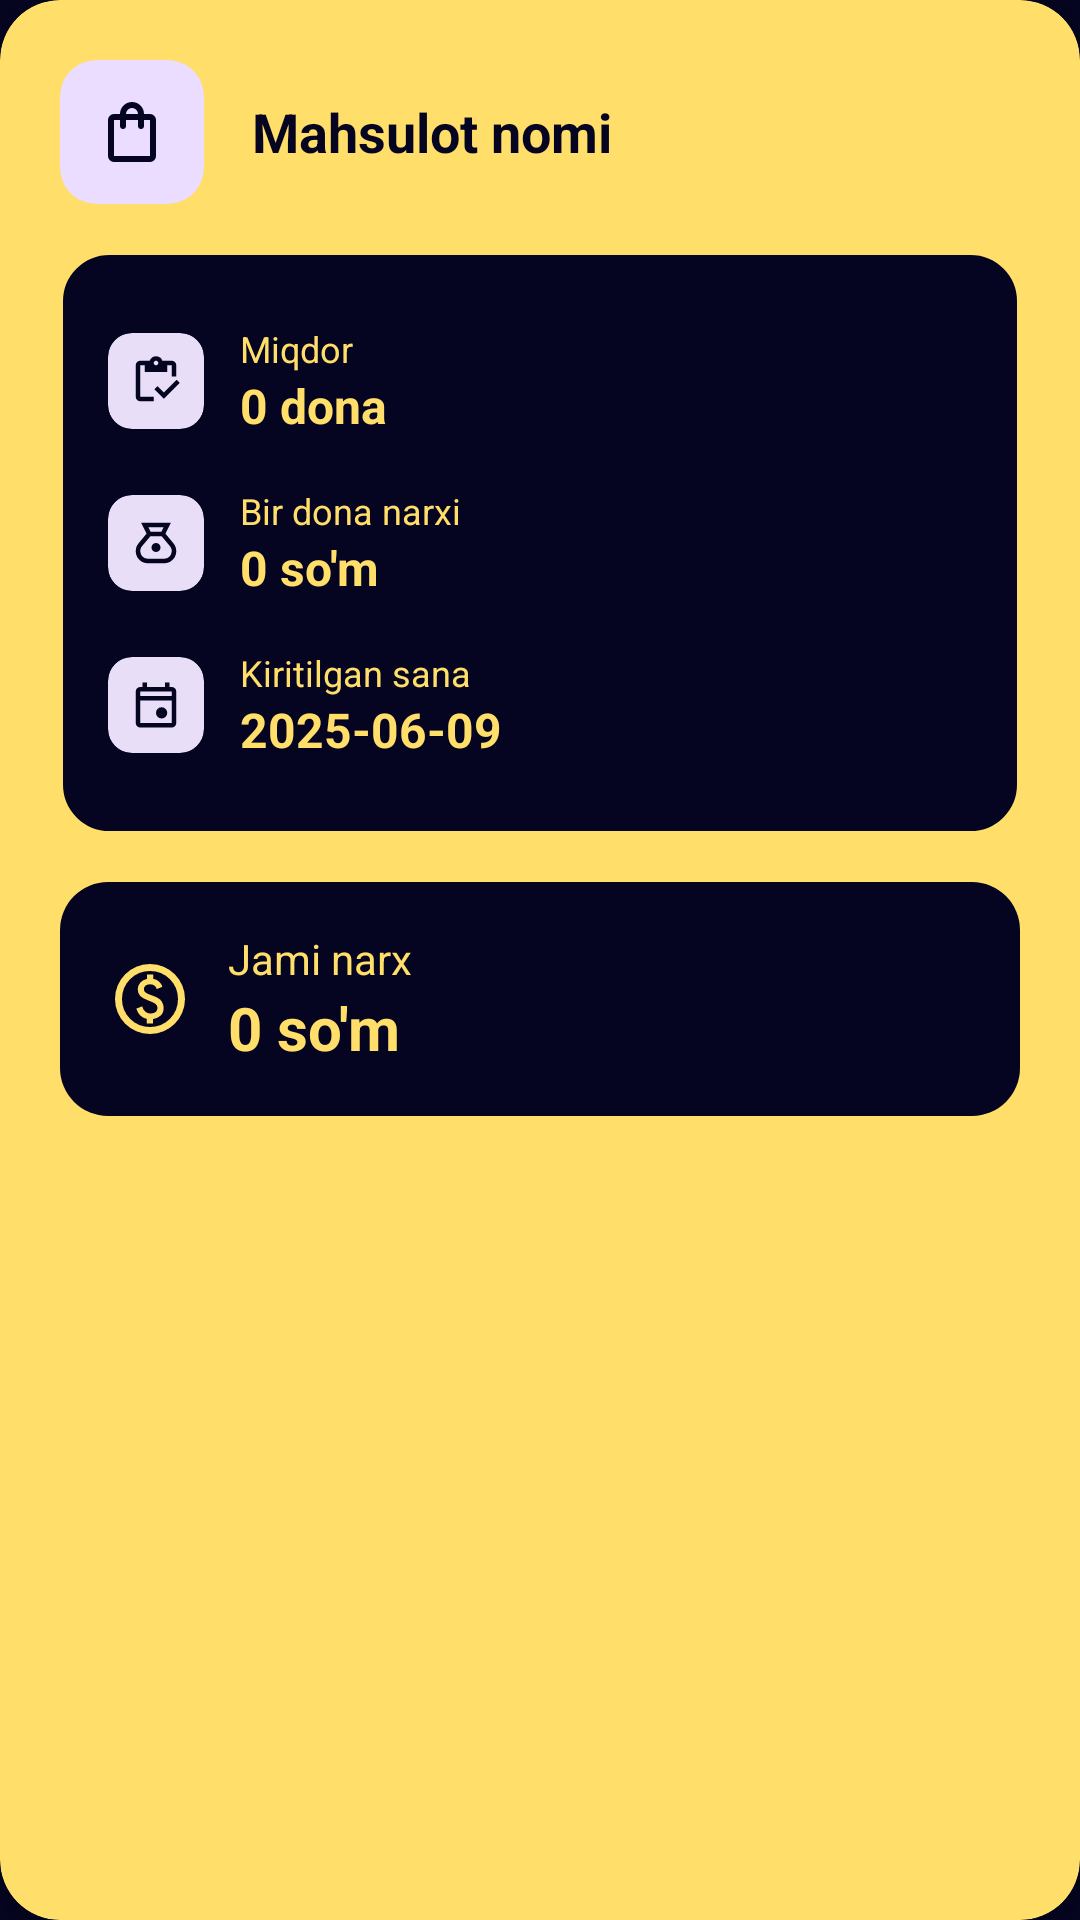

Icon bounding boxes for this 1080×1920 phone screenshot, format (x1, y1, x2, y2):
event: (135, 682, 177, 728)
inventory: (135, 356, 180, 402)
money bag: (135, 522, 177, 564)
paid: (115, 964, 185, 1034)
shopping bag: (108, 102, 156, 162)
